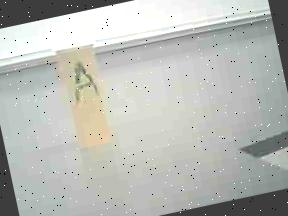Bottle A: (42, 23, 129, 162)
